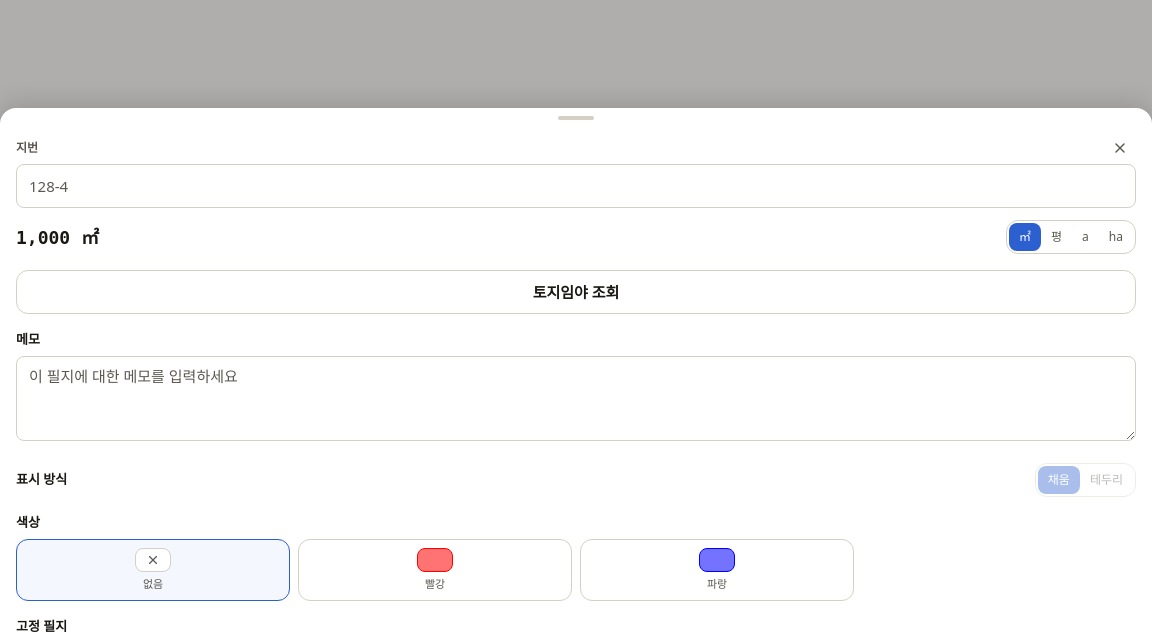
Scenario: V-World 토지임야 조회 버튼 (vworld-land-info.md AC-6~8) › AC-8: 탭 후 ApiError면 인라인 오류 문구 + 버튼 재활성, 시트는 닫히지 않는다
Expected: the text "1,000 ㎡" is shown, 16,226 -> 99,248
Click the button "토지임야 조회".
click(576, 292)  # box 16,270 -> 1136,314
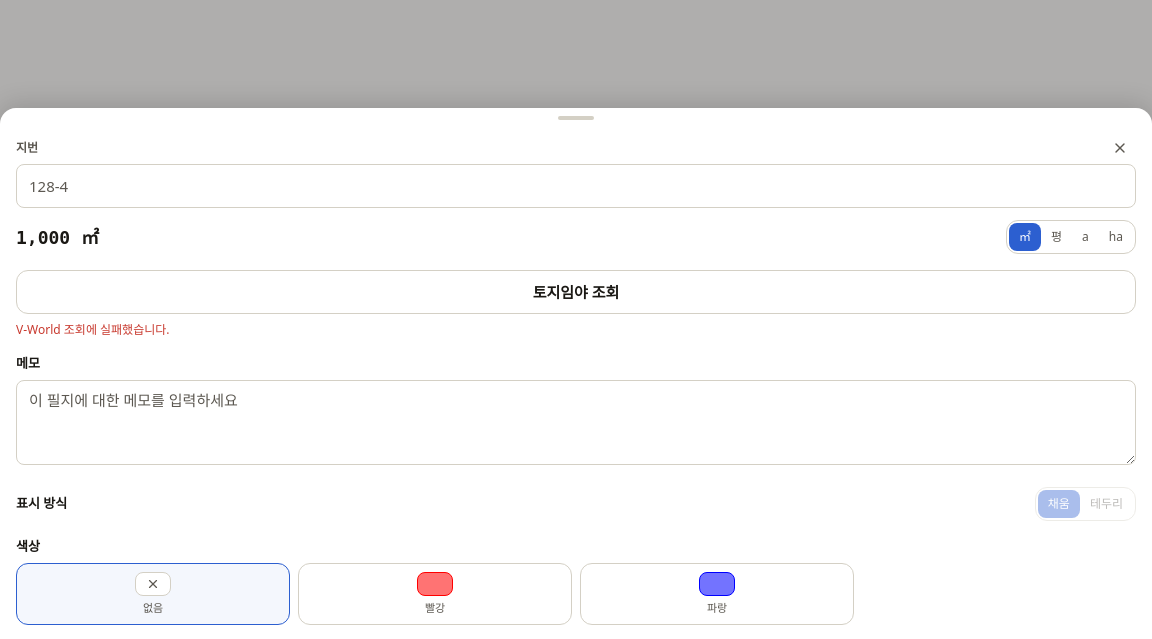
Now the text "V-World 조회에 실패했습니다." is shown, box 16,321 -> 170,338
Click the button "토지임야 조회".
click(576, 292)  # box 16,270 -> 1136,314
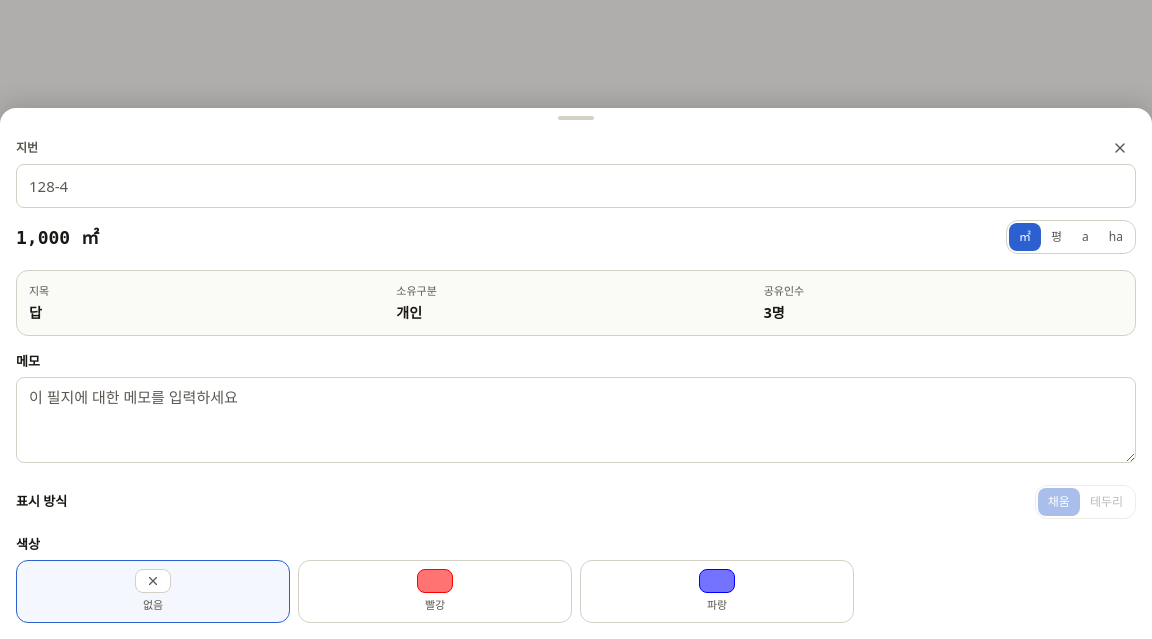
Now the text "지목" is shown, box 29,283 -> 49,298
